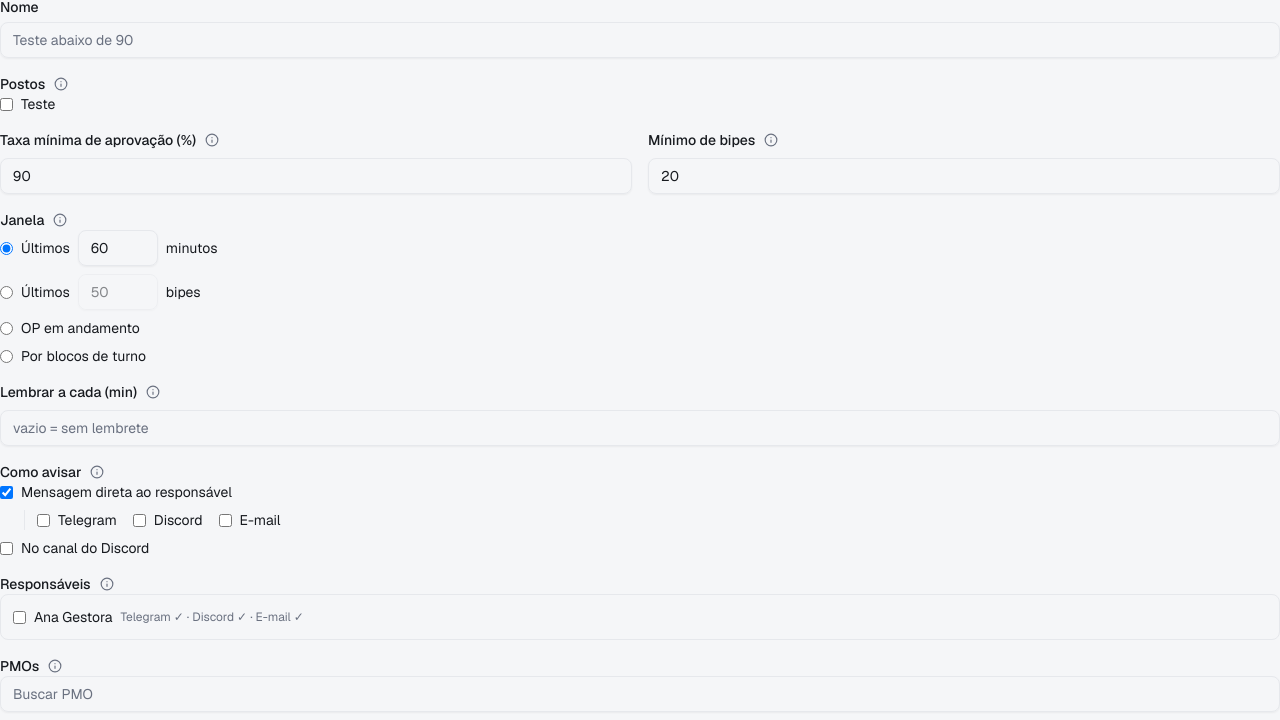
it: RegraForm — o editor de intervalos › "Remover" na linha certa também quando o texto do botão é o mesmo em todas
The width and height of the screenshot is (1280, 720).
Click the radio button labelled "Por blocos de turno".
click(6, 356)  # box x1=0 y1=350 x2=13 y2=362
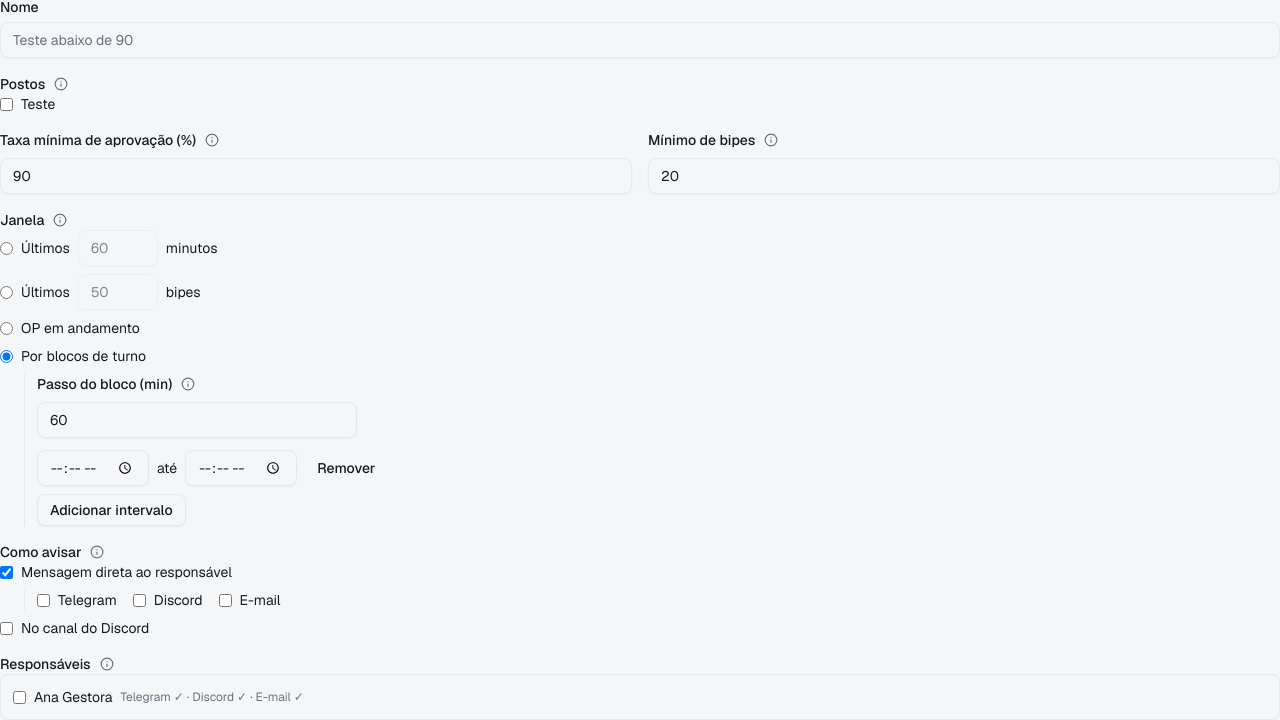
Click the button "Adicionar intervalo".
click(111, 510)  # box x1=37 y1=494 x2=186 y2=526
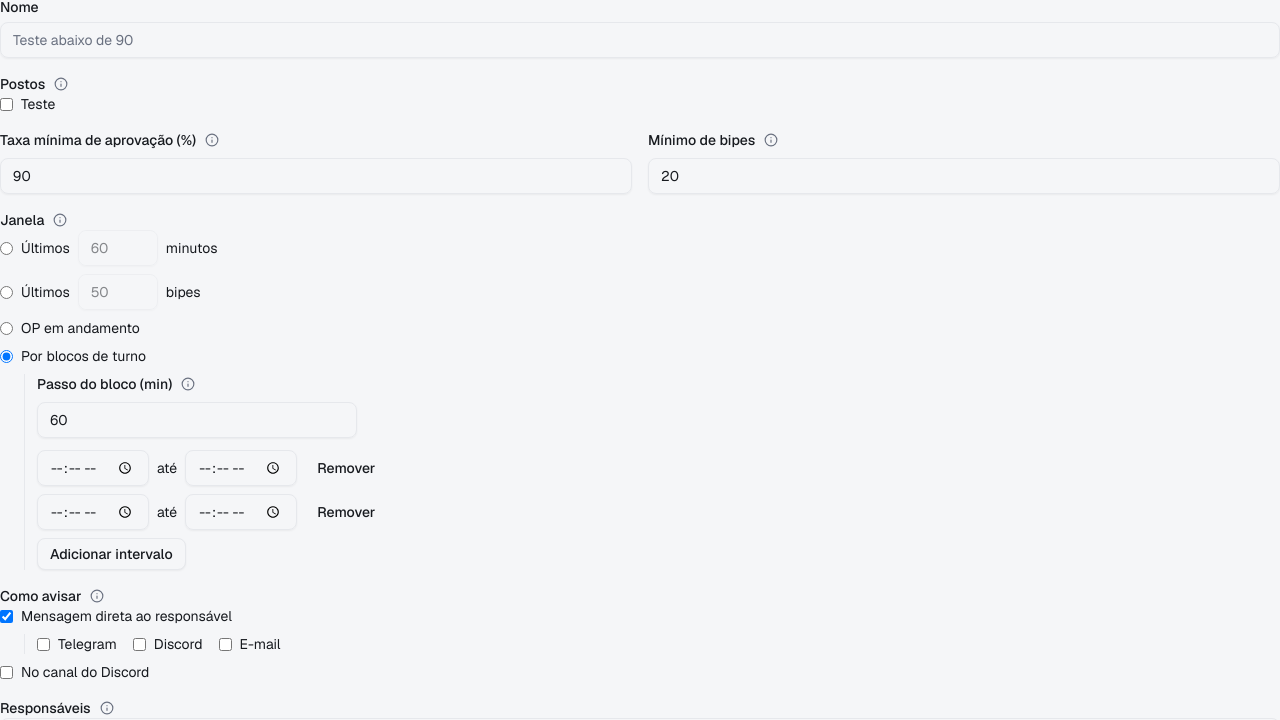
Type "07:00" into the time field named "Início do intervalo 1".
click(93, 468); type("07:00")  # box x1=37 y1=450 x2=149 y2=486
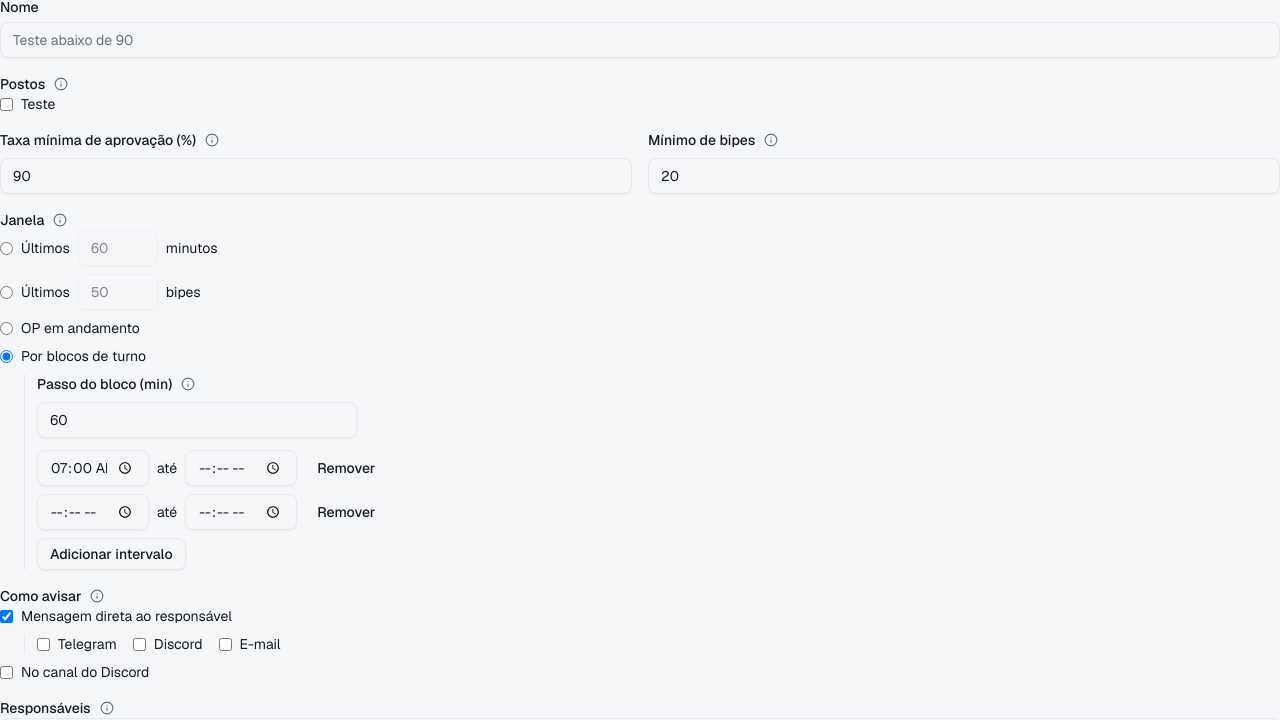
Type "13:30" into the time field named "Início do intervalo 2".
click(93, 512); type("13:30")  # box x1=37 y1=494 x2=149 y2=530
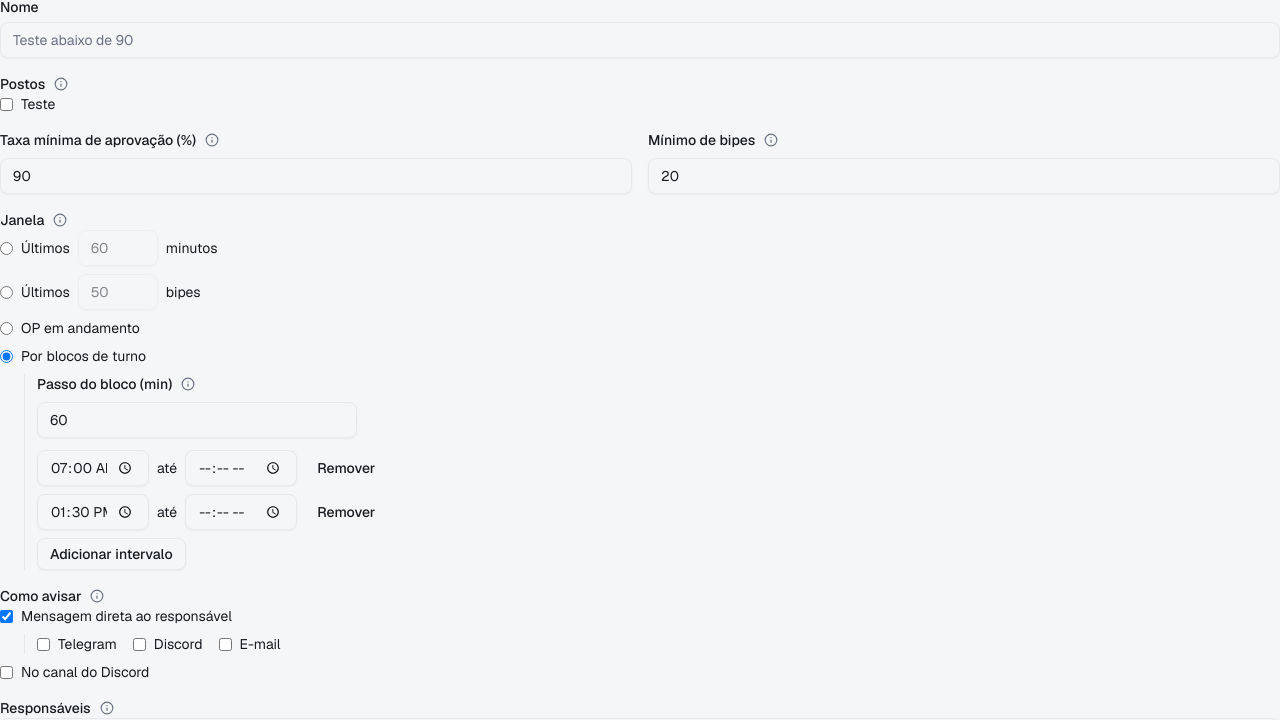
Click the button with aria-label "Remover intervalo 1".
click(346, 468)  # box x1=305 y1=452 x2=387 y2=484
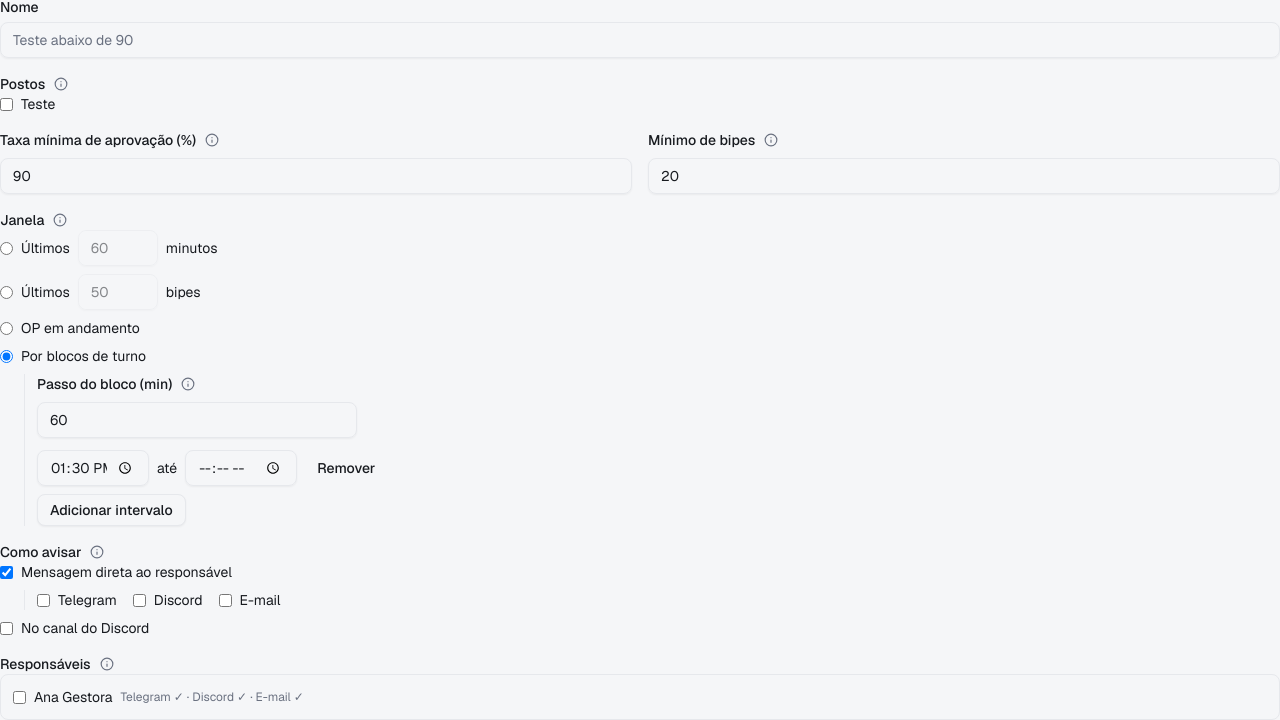
Check: the time field named "Início do intervalo 1" holds "13:30", box x1=37 y1=450 x2=149 y2=486
